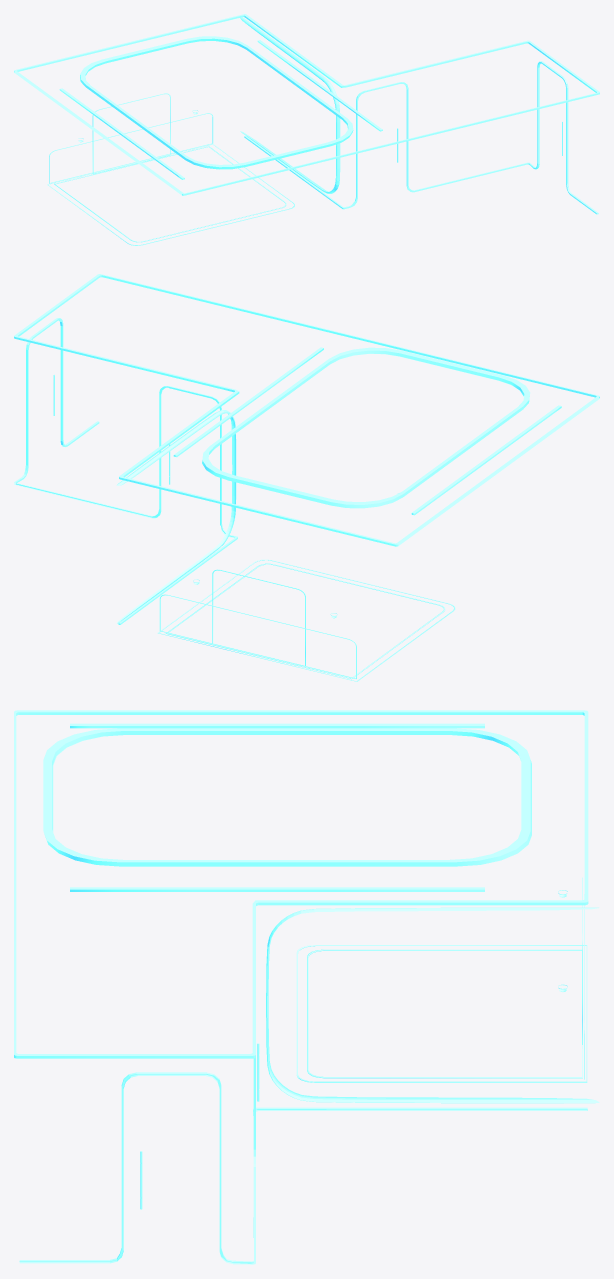
Rendered from Room_Light.glb.
3 renders of one model, top to bottom at view 1: azimuth 30°, elevation 25°; view 2: azimuth 150°, elevation 25°; view 3: azimuth 270°, elevation 25°, orthographic. The views are drawn at different scales.
Visible parts, largest first — view 1: Light; view 2: Light; view 3: Light.
Boxes of the visible parts, left/top/right/bottom form: Light: left=14, top=14, right=599, bottom=245; Light: left=14, top=274, right=599, bottom=681; Light: left=14, top=710, right=599, bottom=1264.
Size of the model in its own units: 11.34 by 3.35 by 8.13.
